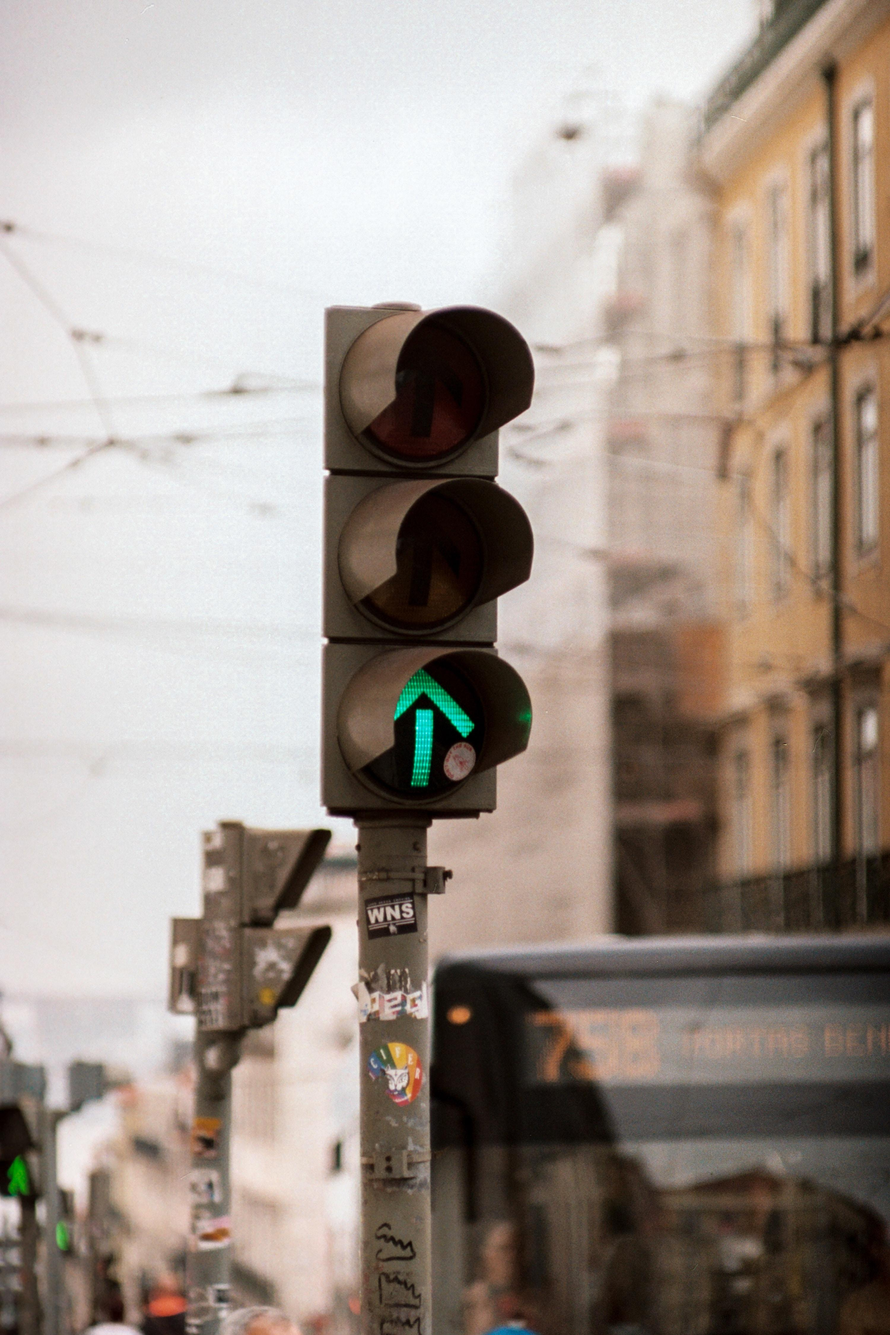Traffic light green: (264, 282, 561, 875)
